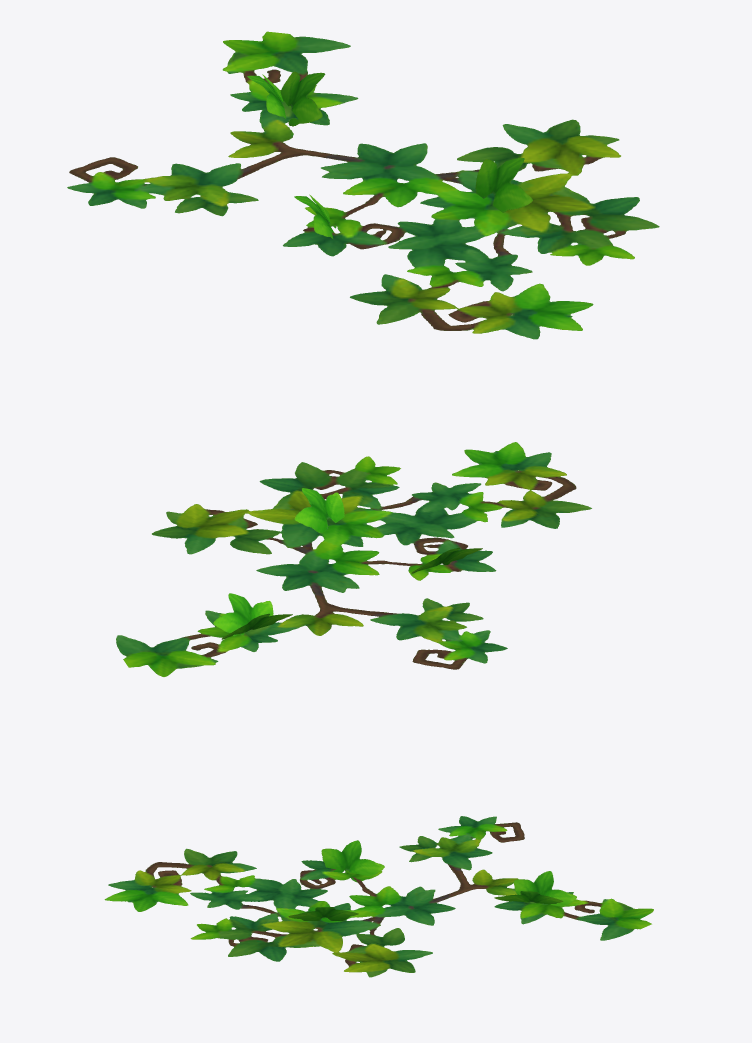
Rendered from sm_flower_03.FBX.
3 views of the same model, one above another, from view 1: azimuth 30°, elevation 25°; view 2: azimuth 150°, elevation 25°; view 3: azimuth 270°, elevation 25° (orthographic). The views are drawn at different scales.
Visible parts, largest first — view 1: sm_flower_03; view 2: sm_flower_03; view 3: sm_flower_03.
Boxes of the visible parts, left/top/right/bottom form: sm_flower_03: left=67, top=31, right=659, bottom=339; sm_flower_03: left=116, top=442, right=591, bottom=676; sm_flower_03: left=104, top=816, right=653, bottom=977.
Size of the model in its own units: 166 by 186 by 10.74.
